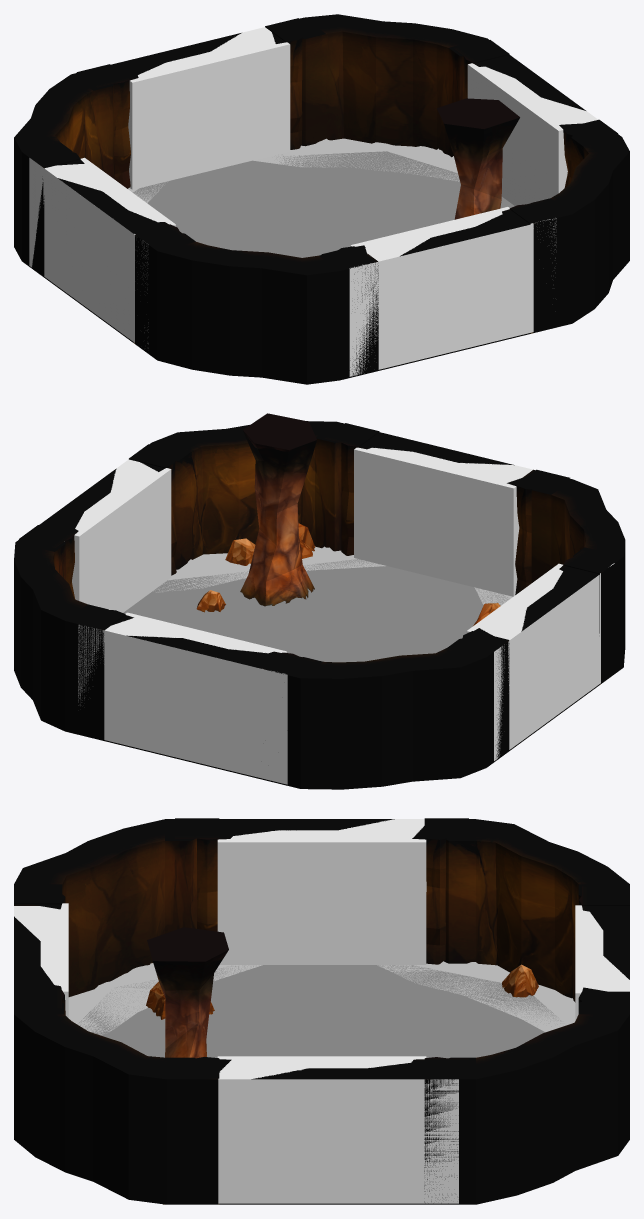
Rendered from Dungeon_062_SpecialRoom_001.fbx.
The picture shows the model from 3 angles, top to bottom: view 1: azimuth 30°, elevation 25°; view 2: azimuth 150°, elevation 25°; view 3: azimuth 270°, elevation 25°; orthographic projection. The views are drawn at different scales.
Parts seen in each view (by area): view 1: Dun_062_StartRoom_001_wall, DoorWay_NavMask (1) (×4), DoorWay_NavMask (3) (×4), Dun_062_StartRoom_001_Nav, Dun_062_Door_002 (×4), Dungeon_062_Object_04_Pillar, Dun_062_StartRoom_001_shadow, DoorWay_NavMask (2) (×2); view 2: Dun_062_StartRoom_001_wall, DoorWay_NavMask (1) (×4), DoorWay_NavMask (3) (×4), Dun_062_StartRoom_001_Nav, Dun_062_Door_002 (×4), Dungeon_062_Object_04_Pillar, Dun_062_StartRoom_001_shadow, DoorWay_NavMask (2) (×4), Dun_062_Object_100; view 3: Dun_062_StartRoom_001_wall, DoorWay_NavMask (1) (×4), DoorWay_NavMask (3) (×4), Dun_062_StartRoom_001_Nav, Dun_062_Door_002 (×4), Dun_062_StartRoom_001_shadow, Dungeon_062_Object_04_Pillar, DoorWay_NavMask (2) (×3), Dun_062_Object_100, Dungeon_062_Object_03_Rock.
Part boxes in pixels (x1=…): Dun_062_StartRoom_001_wall: x1=14, y1=14, x2=629, y2=384; DoorWay_NavMask (1) (×4): x1=43, y1=28, x2=597, y2=369; DoorWay_NavMask (3) (×4): x1=29, y1=27, x2=596, y2=376; Dun_062_StartRoom_001_Nav: x1=133, y1=151, x2=514, y2=257; Dun_062_Door_002 (×4): x1=25, y1=18, x2=617, y2=370; Dungeon_062_Object_04_Pillar: x1=437, y1=98, x2=519, y2=219; Dun_062_StartRoom_001_shadow: x1=128, y1=138, x2=459, y2=203; DoorWay_NavMask (2) (×2): x1=225, y1=33, x2=414, y2=256; Dun_062_StartRoom_001_wall: x1=14, y1=421, x2=625, y2=789; DoorWay_NavMask (1) (×4): x1=72, y1=447, x2=600, y2=770; DoorWay_NavMask (3) (×4): x1=78, y1=450, x2=614, y2=784; Dun_062_StartRoom_001_Nav: x1=123, y1=559, x2=509, y2=662; Dun_062_Door_002 (×4): x1=19, y1=423, x2=618, y2=779; Dungeon_062_Object_04_Pillar: x1=240, y1=413, x2=316, y2=606; Dun_062_StartRoom_001_shadow: x1=153, y1=546, x2=512, y2=605; DoorWay_NavMask (2) (×4): x1=113, y1=463, x2=524, y2=636; Dun_062_Object_100: x1=225, y1=523, x2=315, y2=565; Dun_062_StartRoom_001_wall: x1=14, y1=819, x2=629, y2=1204; DoorWay_NavMask (1) (×4): x1=14, y1=819, x2=605, y2=1203; DoorWay_NavMask (3) (×4): x1=14, y1=819, x2=629, y2=1203; Dun_062_StartRoom_001_Nav: x1=78, y1=965, x2=561, y2=1058; Dun_062_Door_002 (×4): x1=14, y1=818, x2=629, y2=1204; Dun_062_StartRoom_001_shadow: x1=68, y1=961, x2=575, y2=1035; Dungeon_062_Object_04_Pillar: x1=147, y1=927, x2=228, y2=1058; DoorWay_NavMask (2) (×3): x1=23, y1=821, x2=426, y2=1076; Dun_062_Object_100: x1=502, y1=964, x2=538, y2=997; Dungeon_062_Object_03_Rock: x1=146, y1=981, x2=214, y2=1019.
Size of the model in its own units: 9 by 2.96 by 9.
